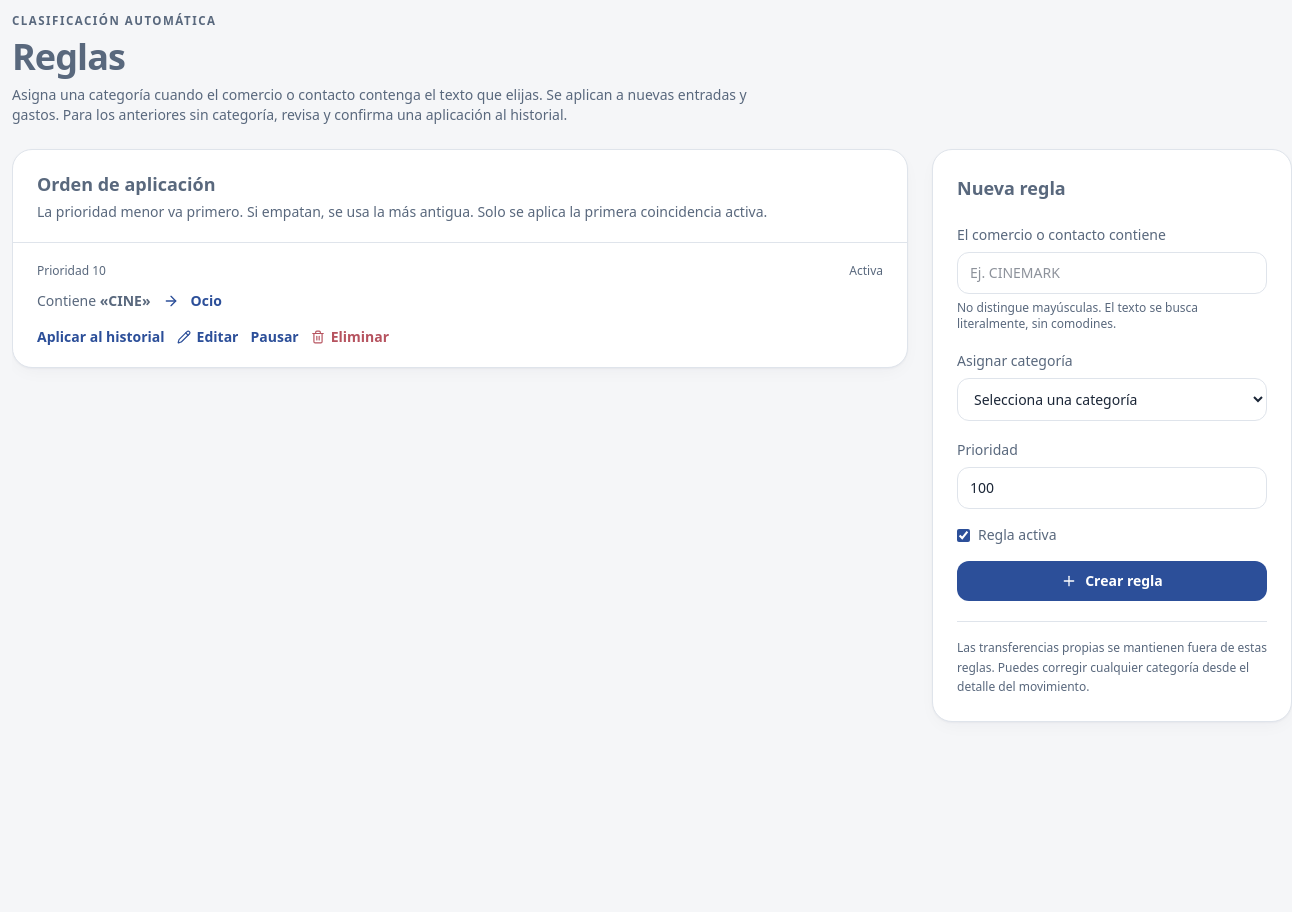
Test: creates a trimmed rule with a catalog category and explicit priority
The image size is (1292, 912).
Expected: the button with aria-label "Editar regla CINE" is shown, [177,327,238,347]
In the field labelled "El comercio o contacto contiene": coordinates (1112, 273) [957,252,1267,294], type "  CINE  "
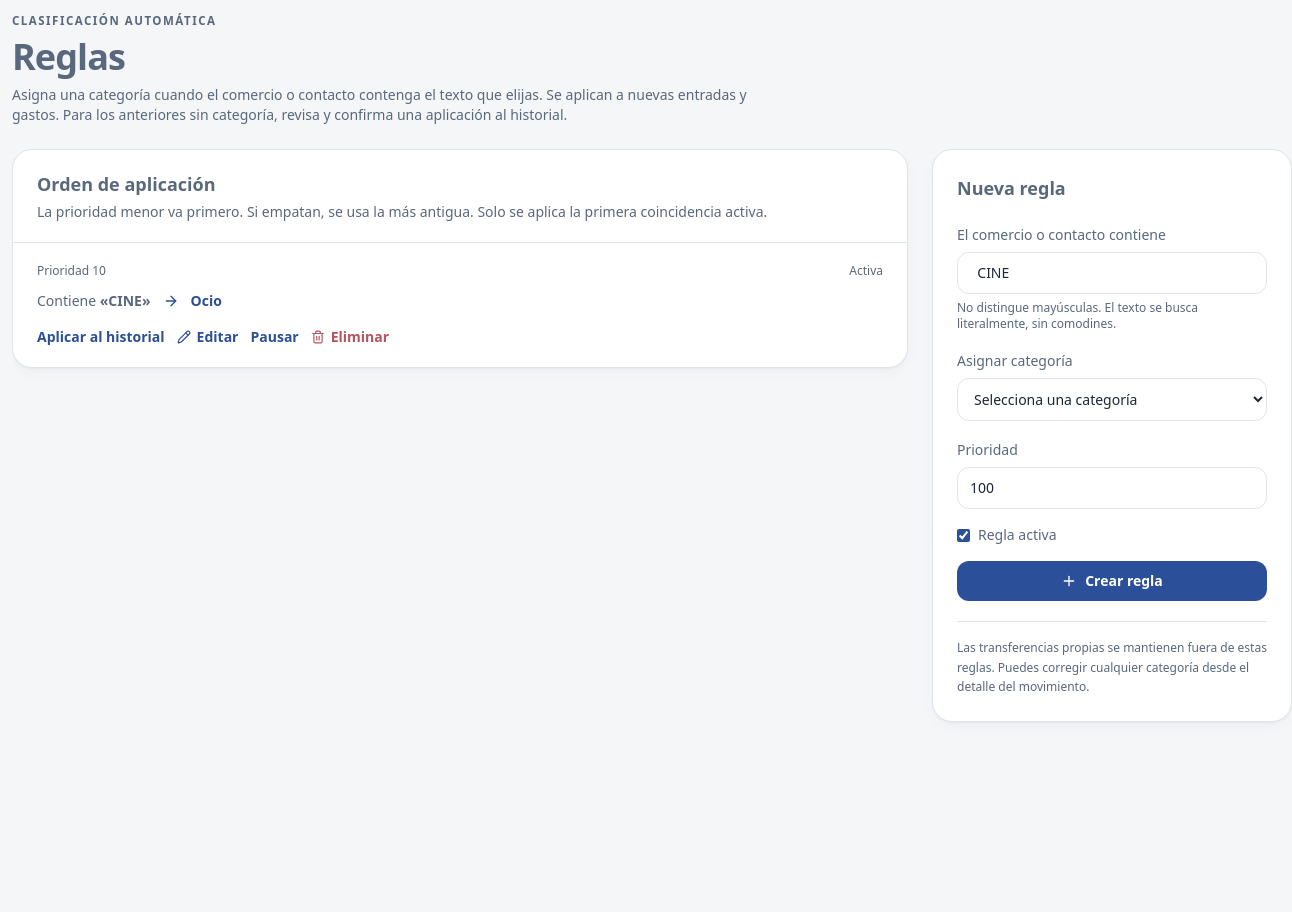
Select "Ocio" in the dropdown labelled "Asignar categoría": coordinates (1112, 400) [957,378,1267,421]
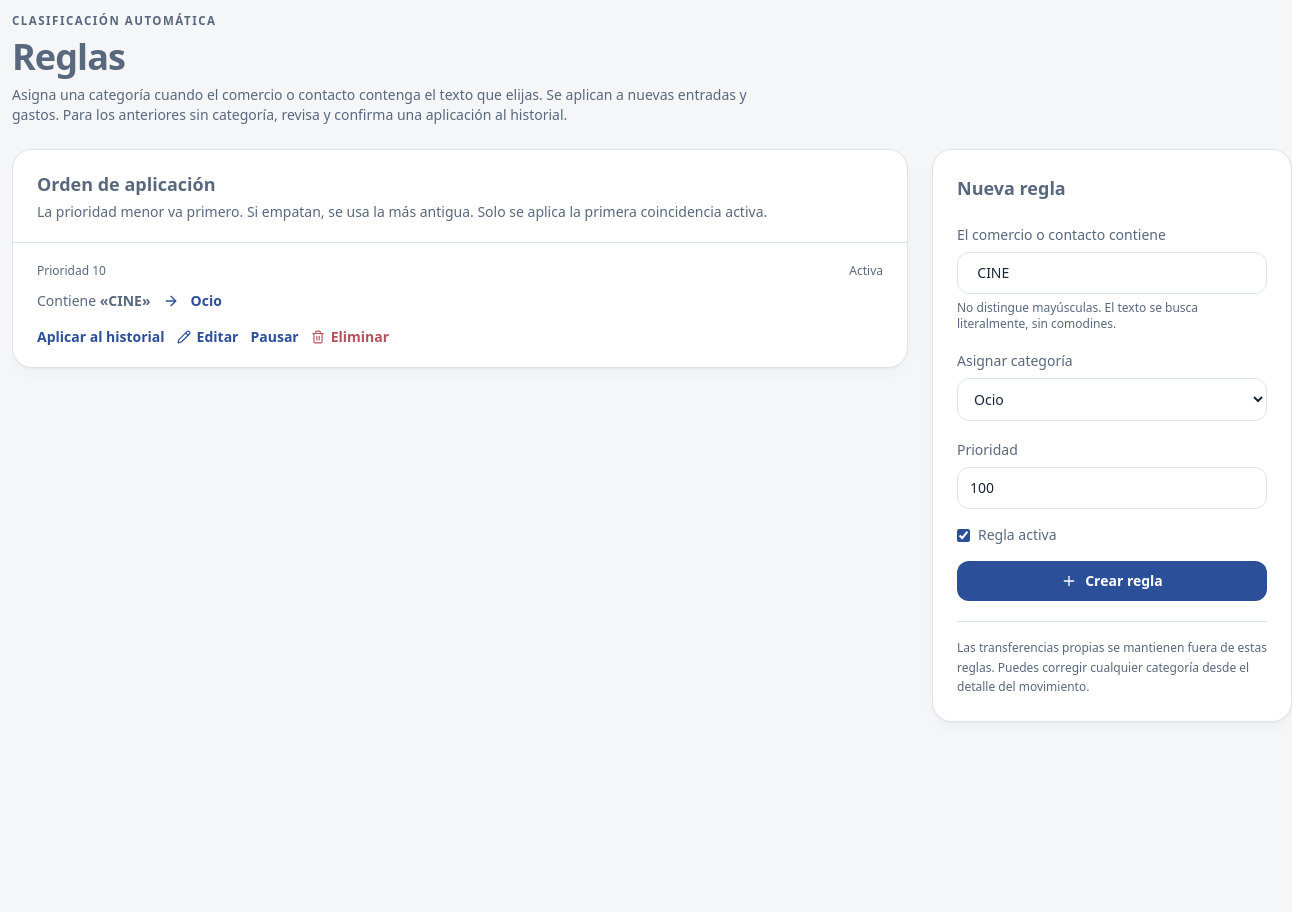
Replace the text in the number field labelled "Prioridad" with "10": coordinates (1112, 488) [957,467,1267,509]
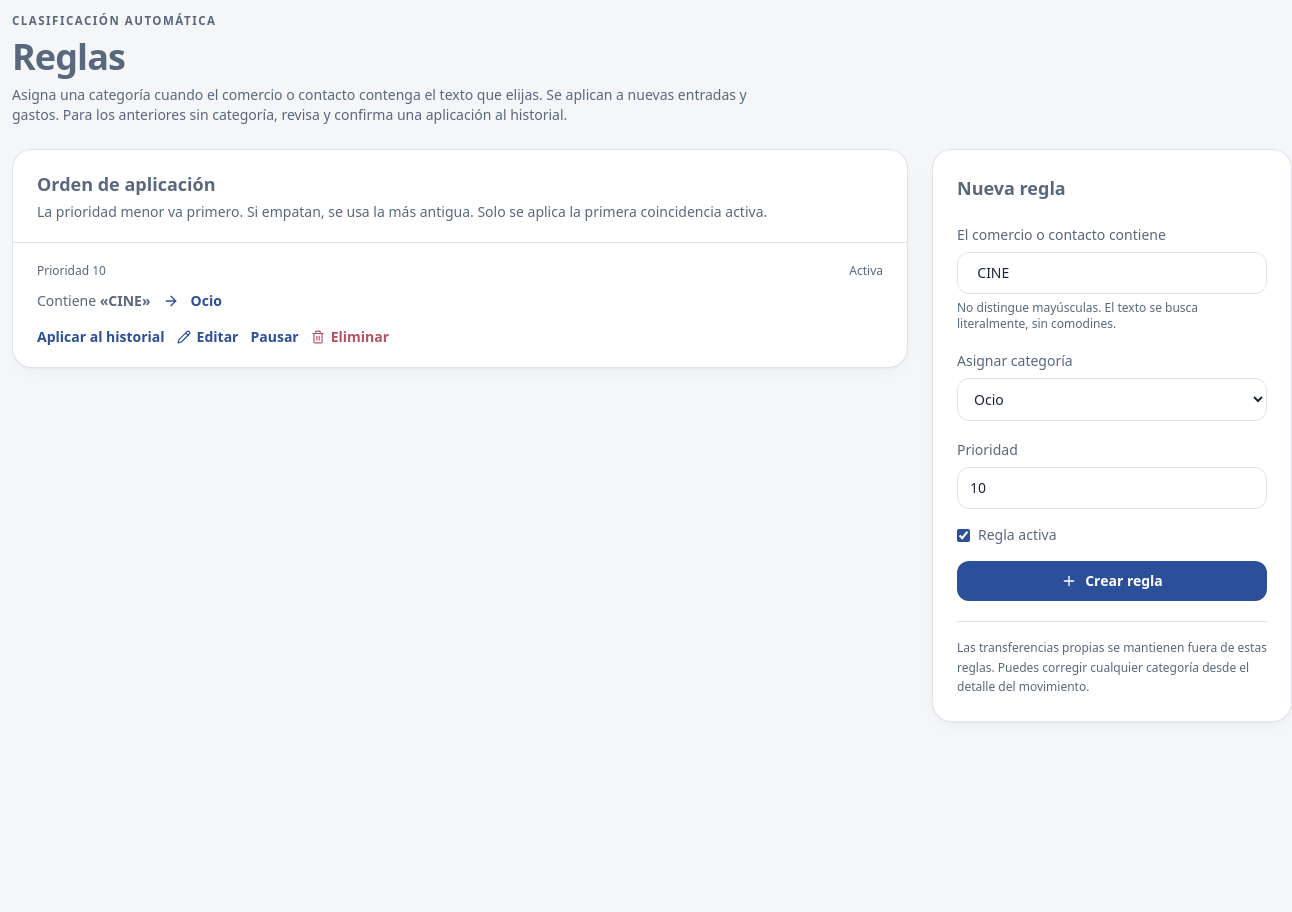
Click the button "Crear regla": coordinates (1112, 581) [957,561,1267,601]
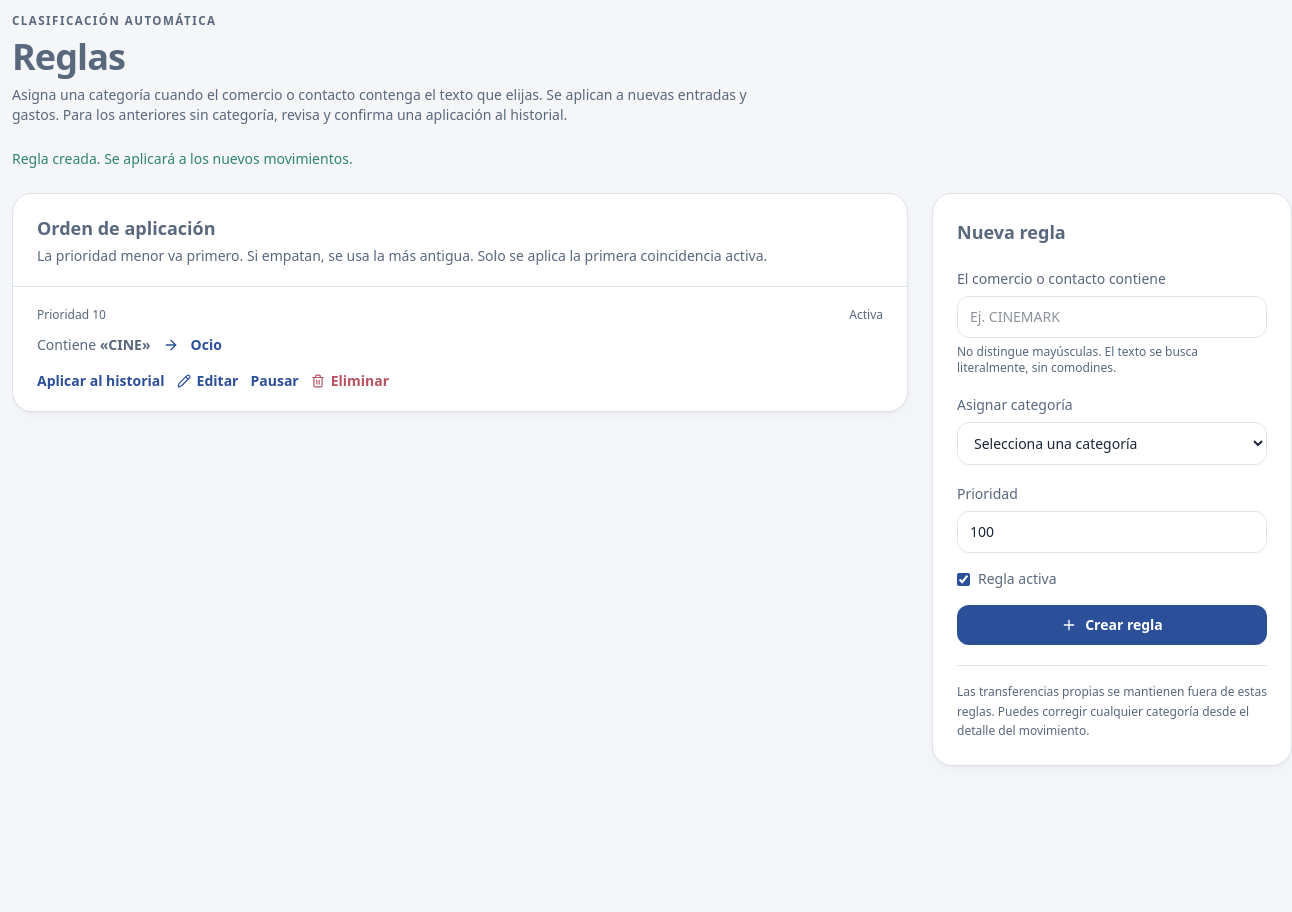
Now the text "Regla creada. Se aplicará a los nuevos movimientos." is shown, box [12,149,353,168]
